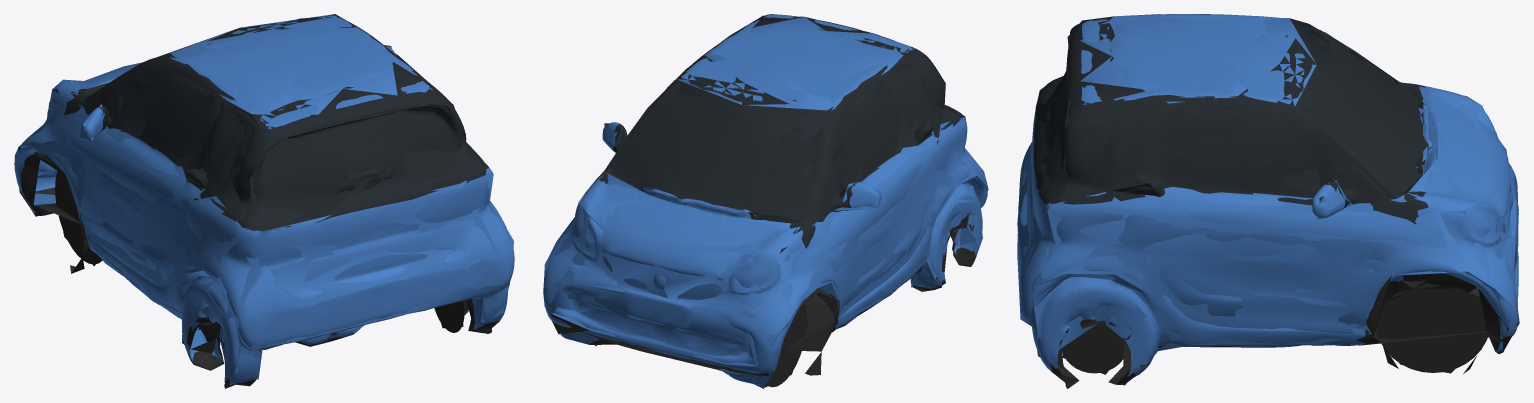
Rendered from smart-fortwo.glb.
3 views of the same model, side by side, from view 1: azimuth 30°, elevation 25°; view 2: azimuth 150°, elevation 25°; view 3: azimuth 270°, elevation 25° (orthographic). The views are drawn at different scales.
Visible parts, largest first — view 1: body, far; view 2: body, far; view 3: body, far.
Part boxes in pixels (box(x1,y1,x2,y2)): body: box(14, 15, 514, 388); far: box(14, 14, 513, 381); body: box(543, 14, 987, 387); far: box(543, 15, 988, 388); body: box(1017, 14, 1518, 388); far: box(1018, 14, 1519, 383).
Bounding box in the file's own units: 2.03 × 1.63 × 2.73.
